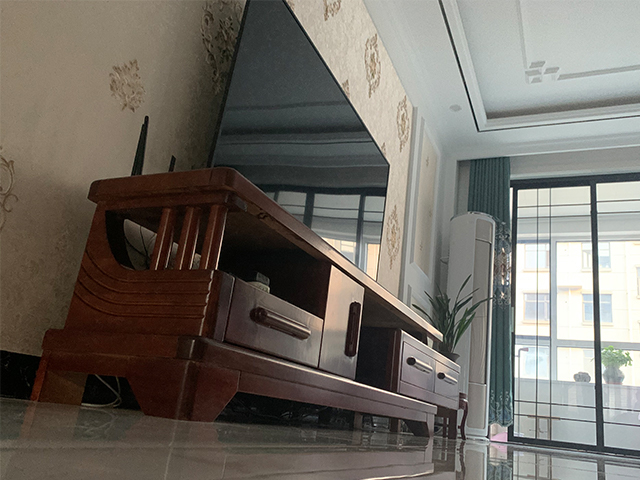cabinet: (26, 164, 469, 441)
curtain: (467, 155, 515, 429)
